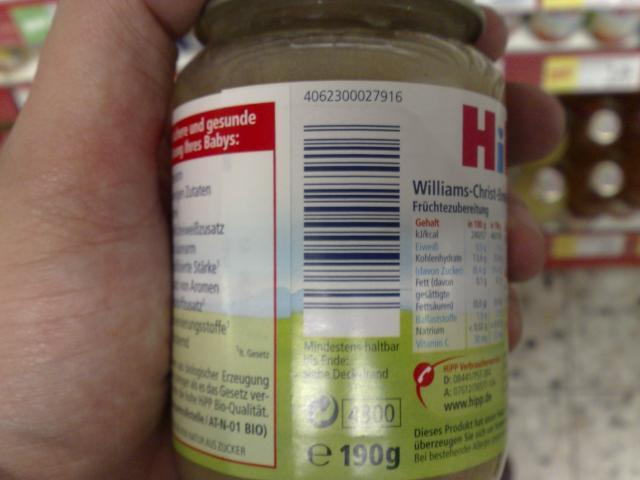Barcode: (295, 85, 411, 316)
